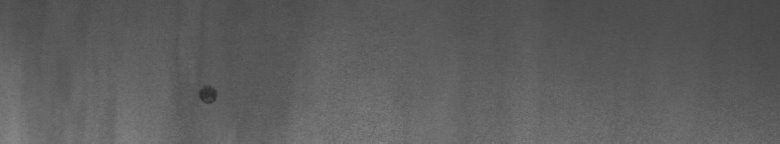fi: (192, 80, 223, 110)
